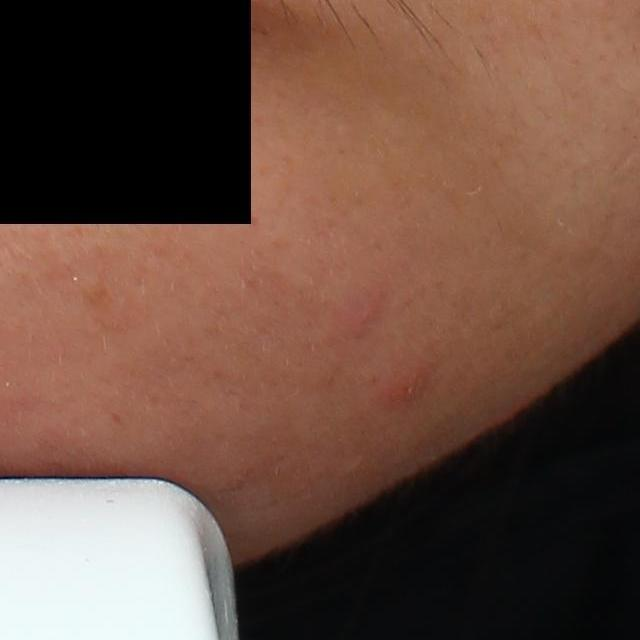papule: (379, 365, 434, 410), (345, 286, 385, 332)
